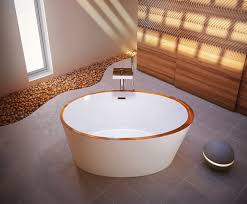bathub: (61, 85, 196, 179)
